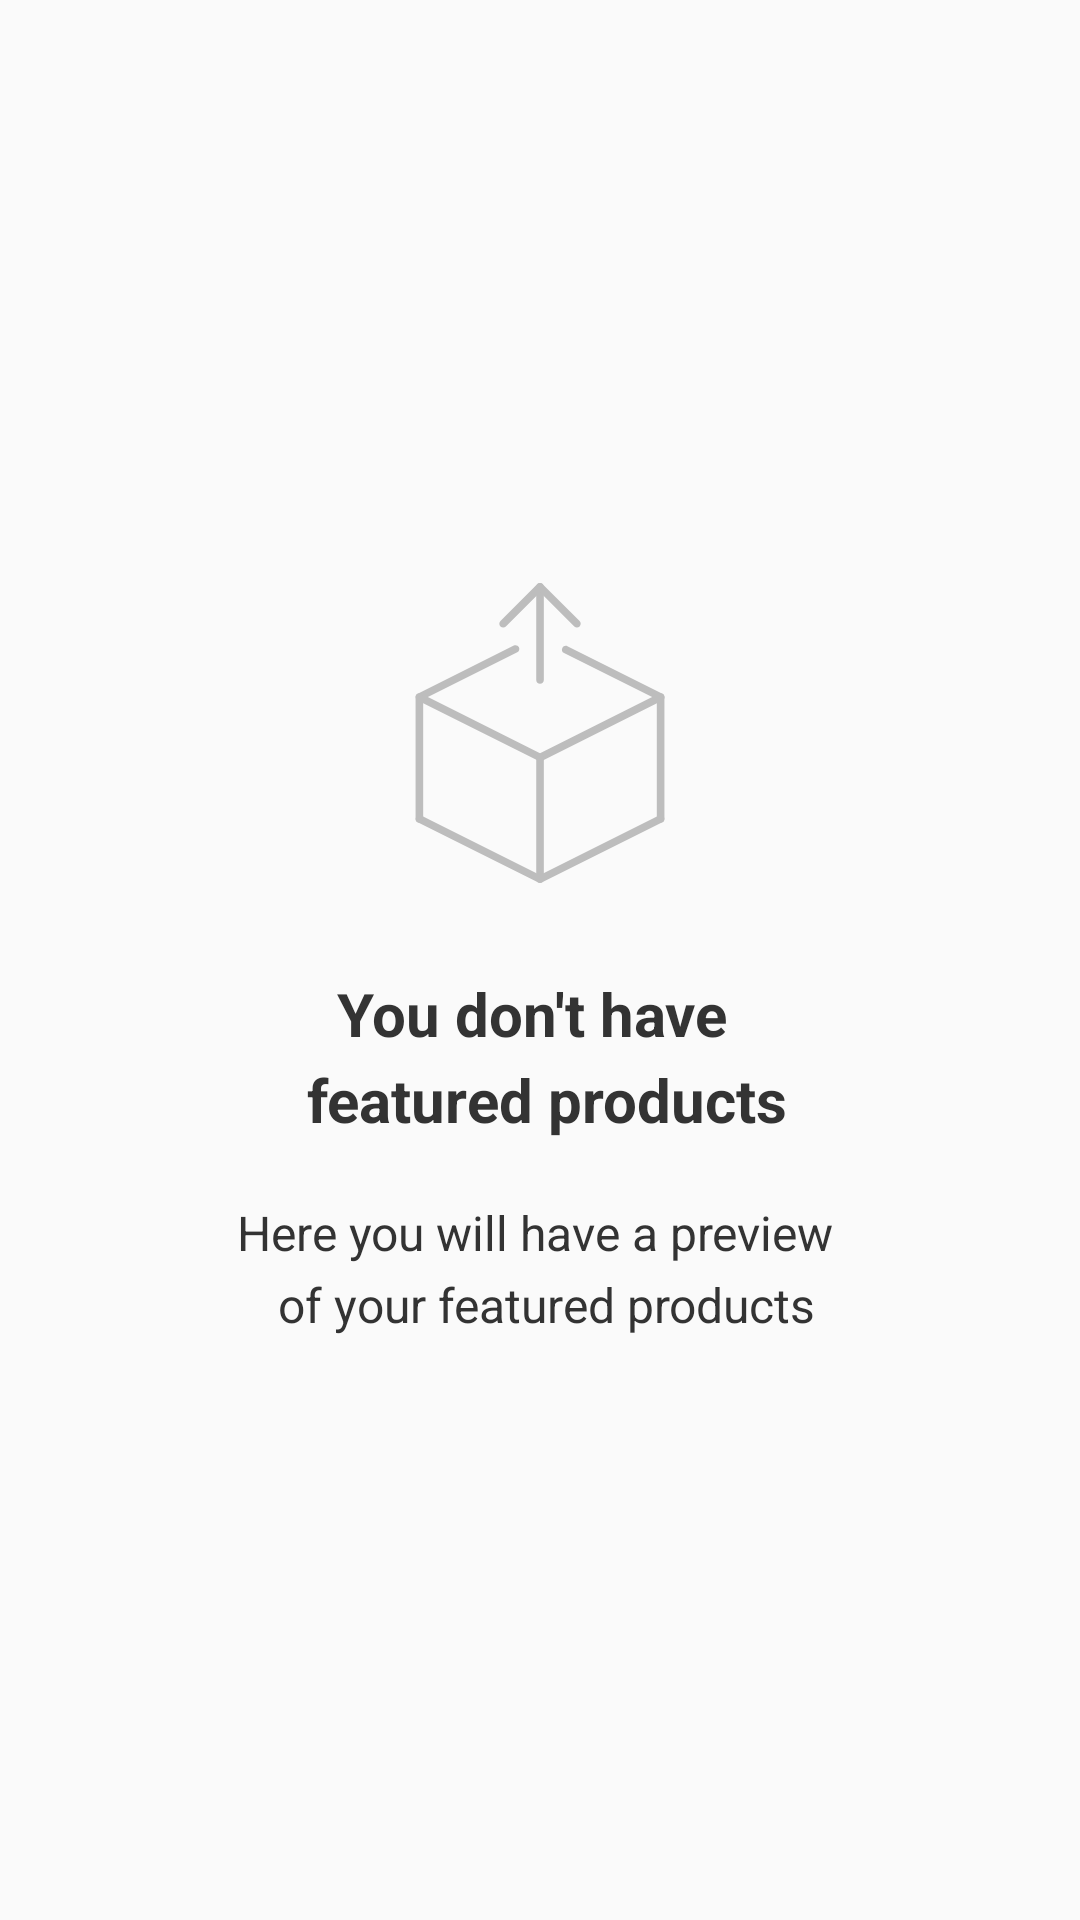

Named icons in this screenshot (1080px x 1920px) and their bounding boxes, (x1, y1, x2, y2):
featured empty: (415, 583, 665, 883)
